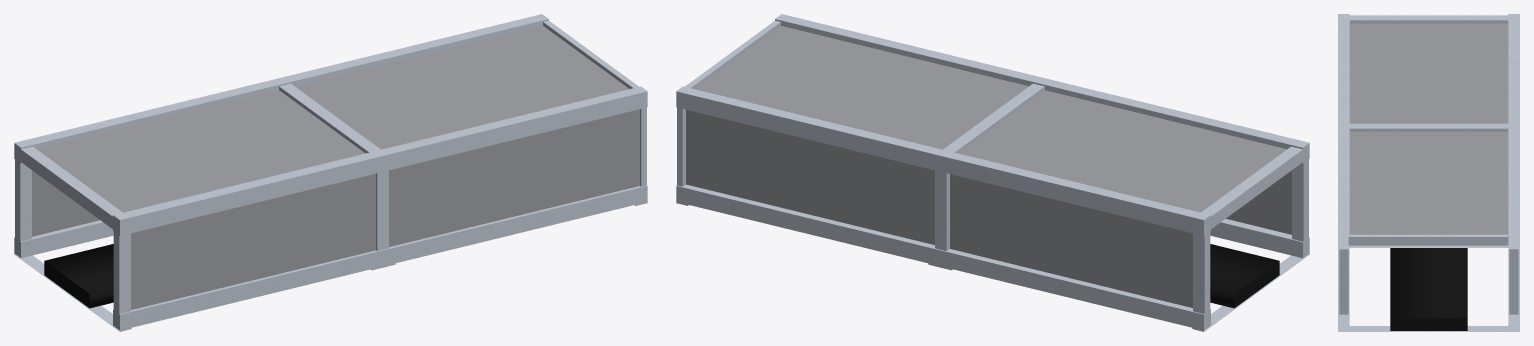
Rendered from SM05_Industrial_CableTray_01_End_02.fbx.
The picture shows the model from 3 angles, left to right: view 1: azimuth 30°, elevation 25°; view 2: azimuth 150°, elevation 25°; view 3: azimuth 270°, elevation 25°; orthographic projection. The views are drawn at different scales.
Visible parts, largest first — view 1: SM05_Industrial_CableTray_01_End_02; view 2: SM05_Industrial_CableTray_01_End_02; view 3: SM05_Industrial_CableTray_01_End_02.
Part boxes in pixels (x1,y1,x2,y2): SM05_Industrial_CableTray_01_End_02: [14, 14, 647, 331]; SM05_Industrial_CableTray_01_End_02: [676, 14, 1309, 331]; SM05_Industrial_CableTray_01_End_02: [1338, 14, 1519, 331].
Bounding box in the file's own units: 1.88 × 0.3796 × 0.65.
